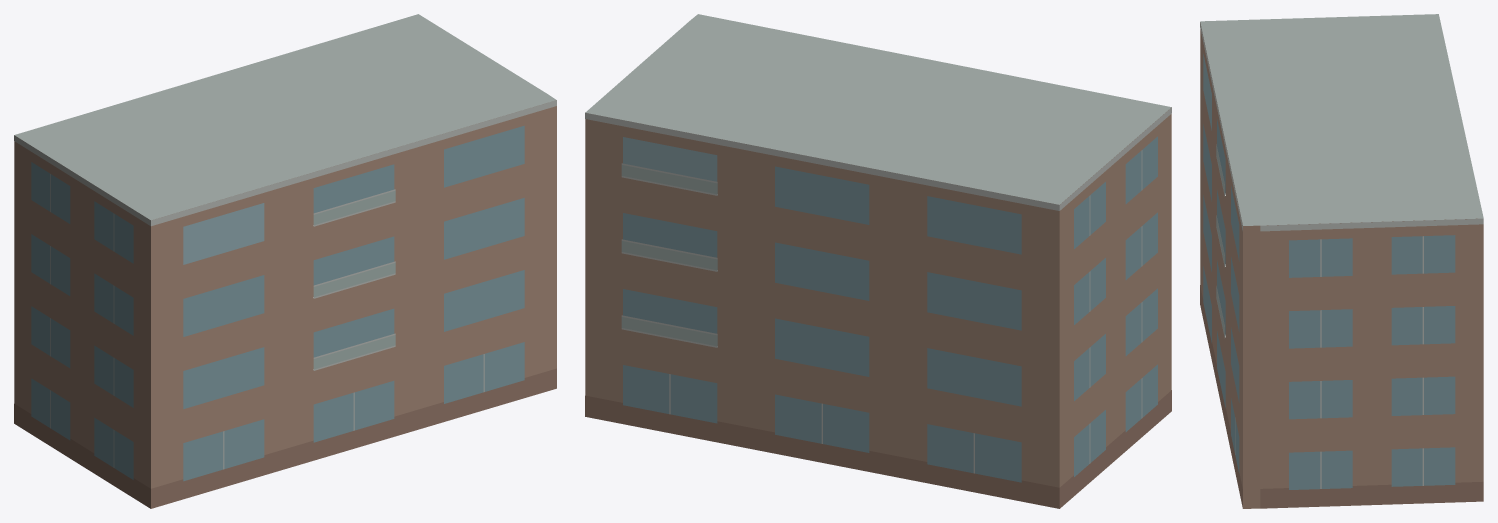
The model's file is survey-upis-32759663.glb.
The picture shows the model from 3 angles, left to right: view 1: azimuth 30°, elevation 25°; view 2: azimuth 150°, elevation 25°; view 3: azimuth 270°, elevation 25°; orthographic projection. The views are drawn at different scales.
Visible parts, largest first — view 1: survey-upis-32759663.tmp; view 2: survey-upis-32759663.tmp; view 3: survey-upis-32759663.tmp.
Part boxes in pixels (<box>): survey-upis-32759663.tmp: <box>14,14,556,508</box>; survey-upis-32759663.tmp: <box>585,14,1171,508</box>; survey-upis-32759663.tmp: <box>1200,14,1483,508</box>.
Size of the model in its own units: 19.12 by 11.9 by 10.82.
